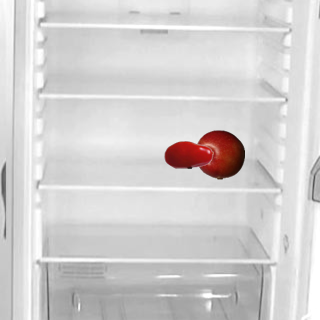Apple Braeburn: (194, 129, 244, 179)
Tomato 2: (163, 129, 213, 179)
